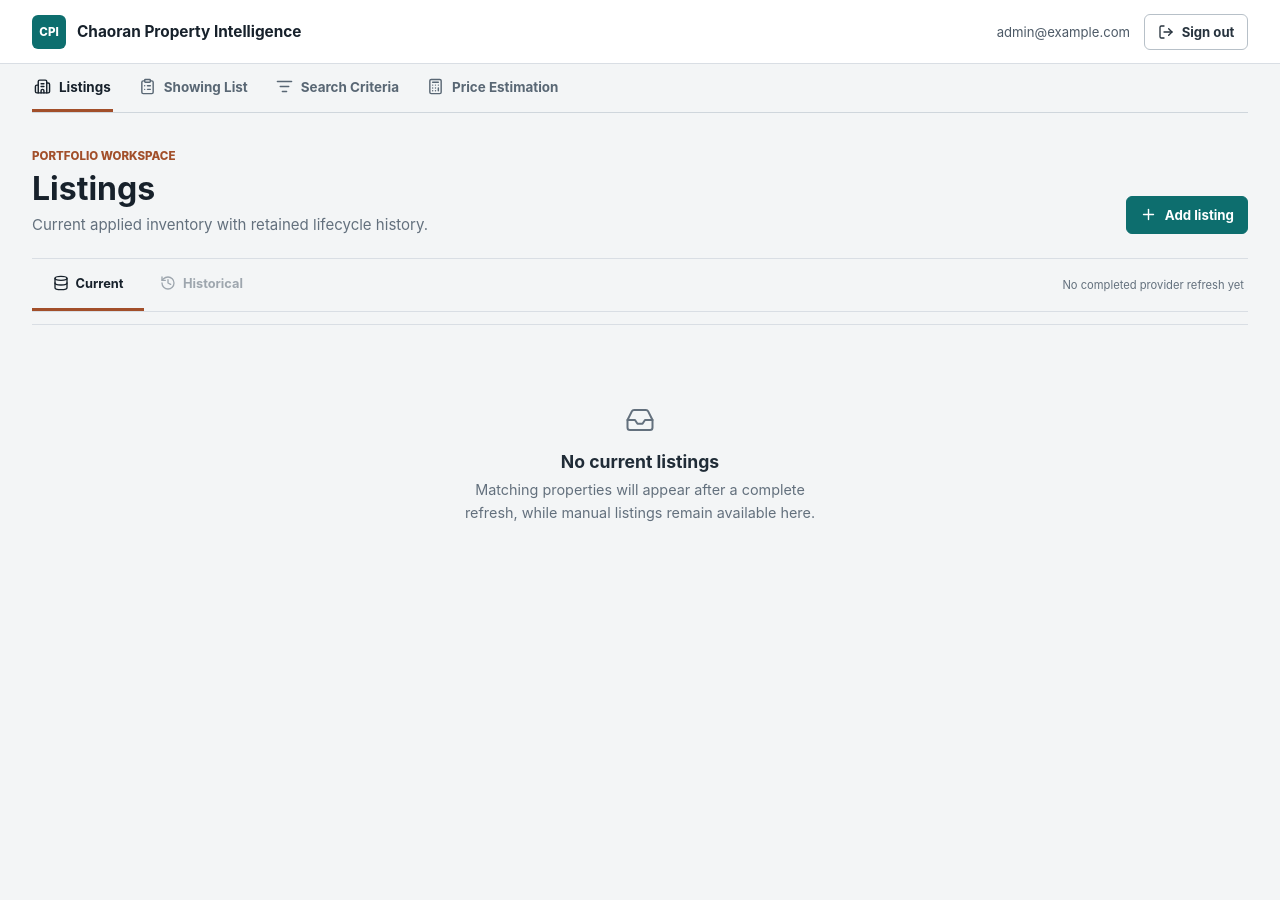
Test: App authentication boundary › switches to the protected Search Criteria workspace
Expected: the heading "No current listings" is shown, [561, 451, 719, 472]
Click the button "Search Criteria" at (337,88), box [274, 64, 401, 112]
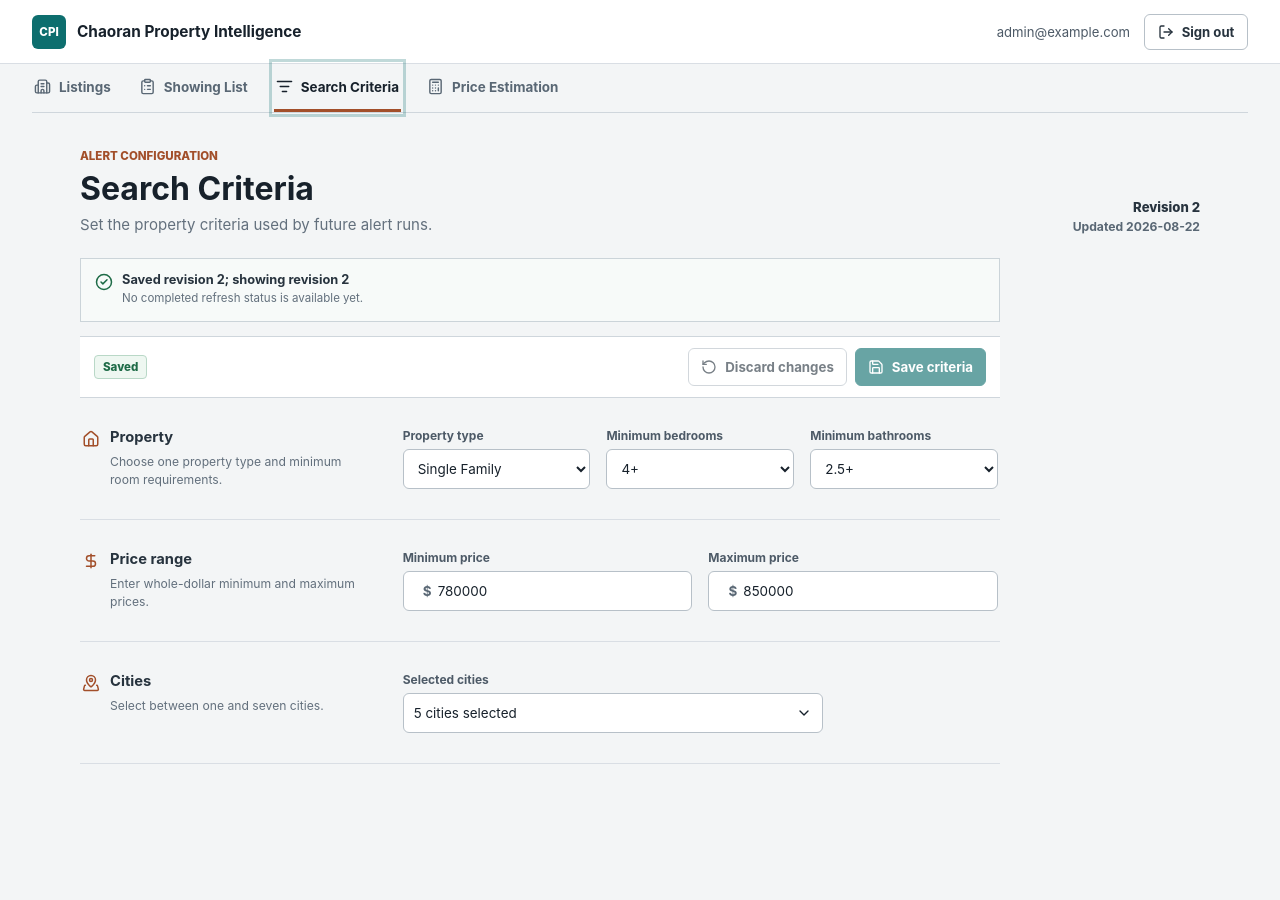
Result: the heading "Search Criteria" is shown at [80, 169, 314, 208]
